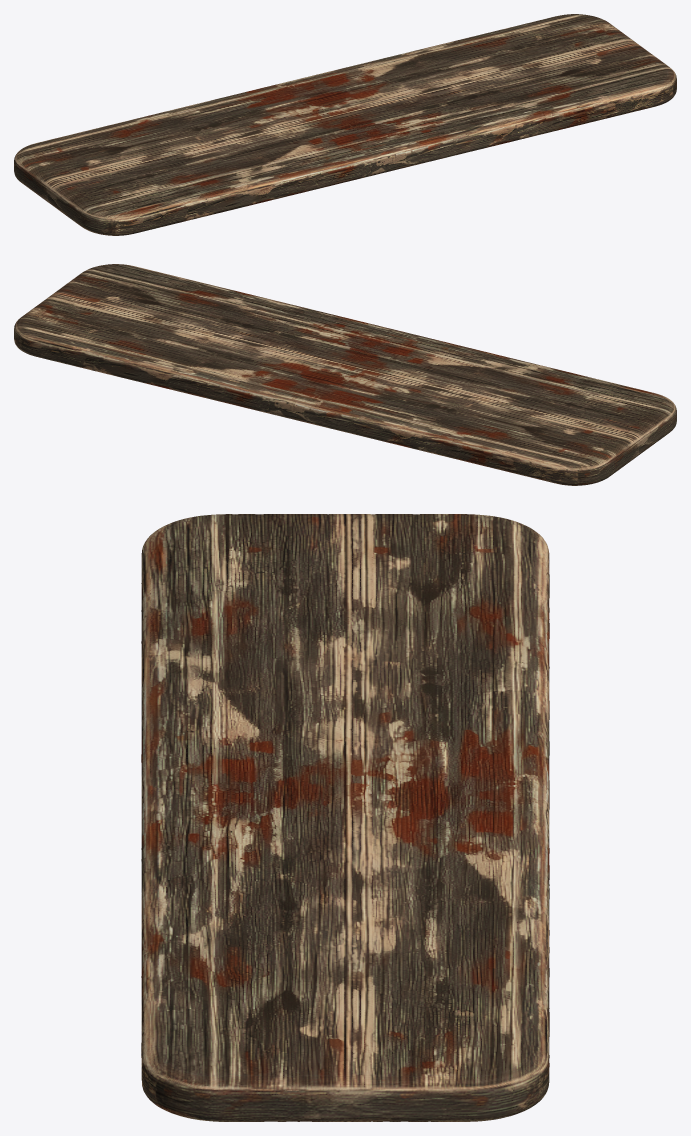
Rendered from Meshy_AI_Weathered_Wooden_Plan_0513212854_texture.fbx.
3 renders of one model, top to bottom at view 1: azimuth 30°, elevation 25°; view 2: azimuth 150°, elevation 25°; view 3: azimuth 270°, elevation 25°, orthographic. The views are drawn at different scales.
Visible parts, largest first — view 1: Mesh_0; view 2: Mesh_0; view 3: Mesh_0.
Part boxes in pixels (box(x1,y1,x2,y2)): Mesh_0: box(14, 14, 676, 235); Mesh_0: box(14, 264, 676, 485); Mesh_0: box(141, 514, 549, 1121).
Bounding box in the file's own units: 191 × 6.85 × 57.15.
Materials: 1 (1 with a texture image).
